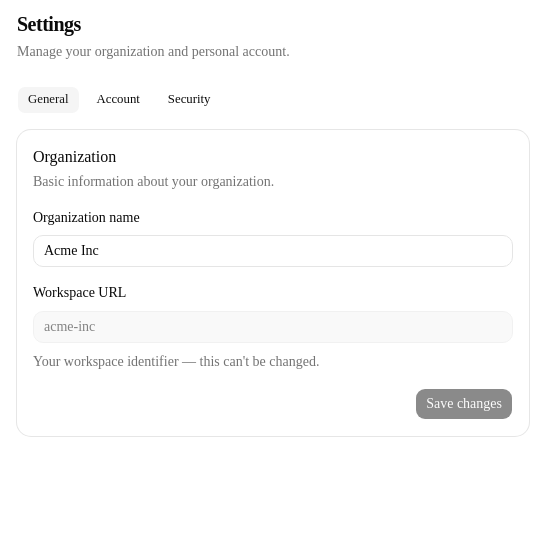
Test: SettingsPage › surfaces an incorrect-current-password error from the backend
Expected: the field showing "Acme Inc" is shown, [33,235,513,267]
Click the button "Security". click: (189, 100)
box: [157,86,222,114]
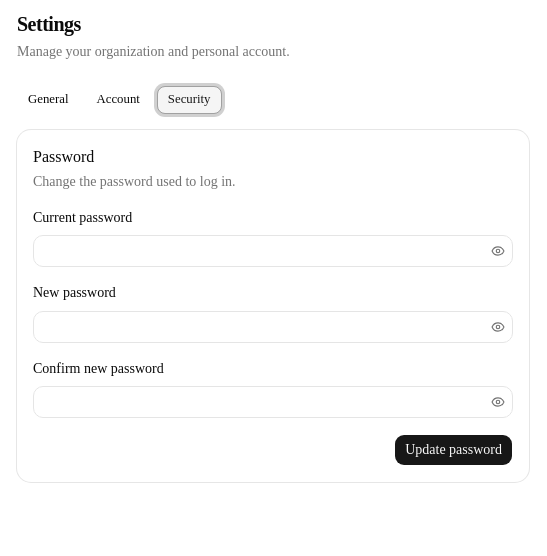
Type "WrongPassword1" into the password field labelled "Current password". click: (273, 251)
box: [33,235,513,267]
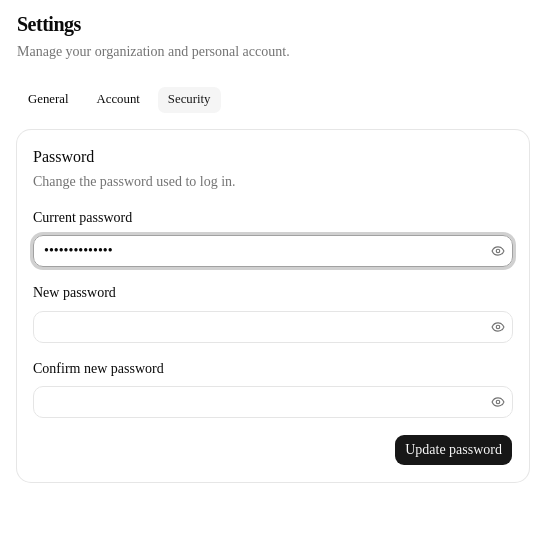
Type "NewPassw0rd2" into the password field labelled "New password". click: (273, 326)
box: [33,310,513,342]
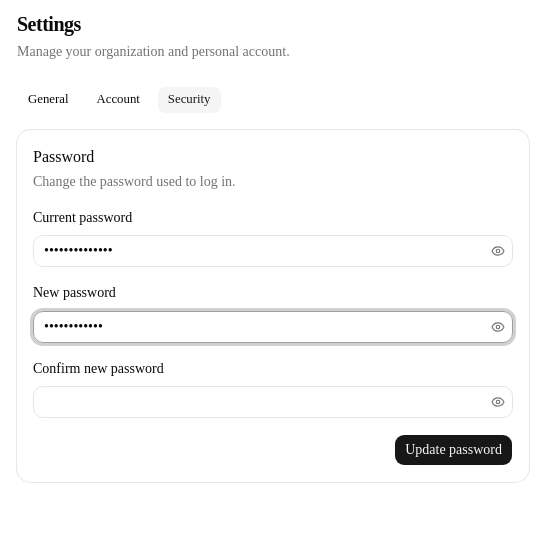
Type "NewPassw0rd2" into the password field labelled "Confirm new password". click: (273, 402)
box: [33,386,513,418]
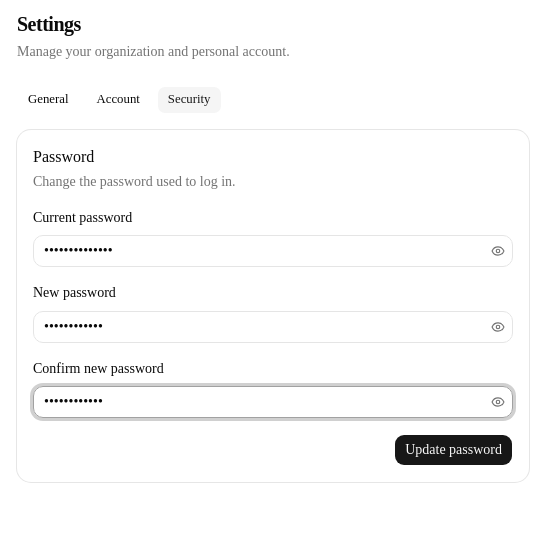
Click the button "Update password". click: (454, 450)
box: [394,434,513,466]
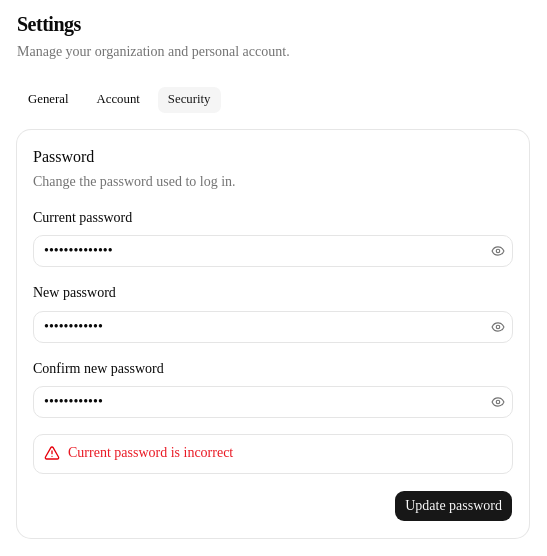
Expected: the text "Current password is incorrect" is shown, [68,445,233,460]
